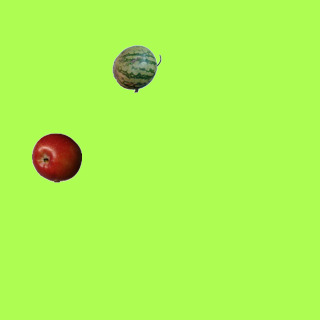Apple Braeburn: (31, 132, 81, 182)
Watermelon: (111, 43, 161, 93)
